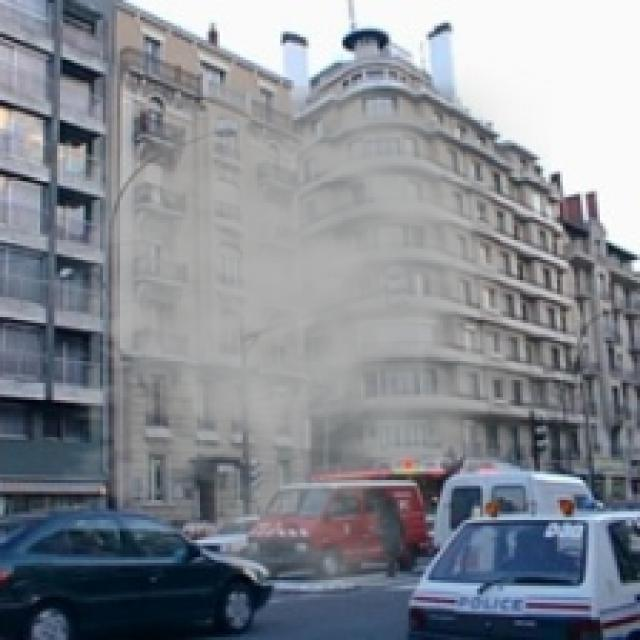Smoke: (9, 54, 552, 586)
